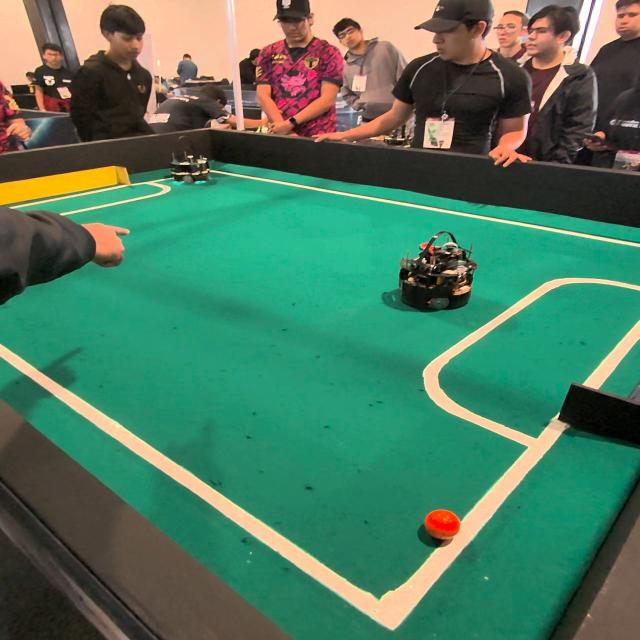Robot: (398, 231, 479, 316), (168, 129, 214, 192)
pelota: (416, 511, 466, 540)
